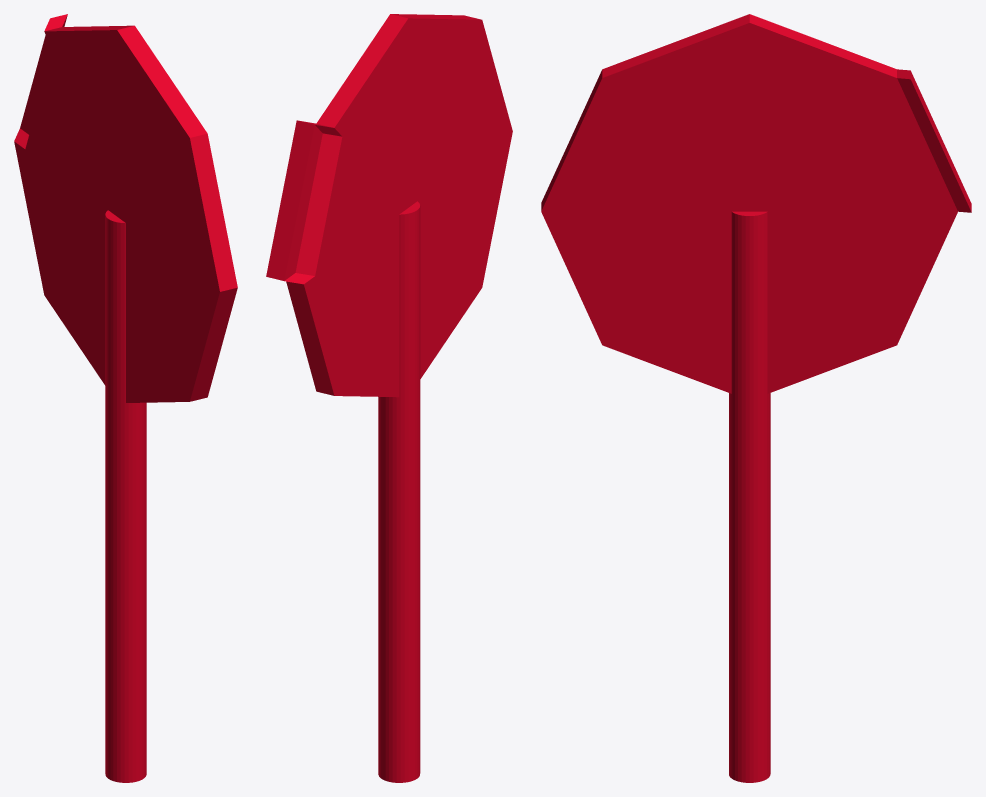
The model's file is StopSign.fbx.
The picture shows the model from 3 angles, left to right: view 1: azimuth 30°, elevation 25°; view 2: azimuth 150°, elevation 25°; view 3: azimuth 270°, elevation 25°; orthographic projection.
Parts seen in each view (by area): view 1: Cylinder.001; view 2: Cylinder.001; view 3: Cylinder.001.
Part boxes in pixels (x1,y1,x2,y2): Cylinder.001: (14, 14, 237, 782); Cylinder.001: (266, 14, 512, 782); Cylinder.001: (541, 14, 971, 782).
Bounding box in the file's own units: 22.07 × 400 × 207.
